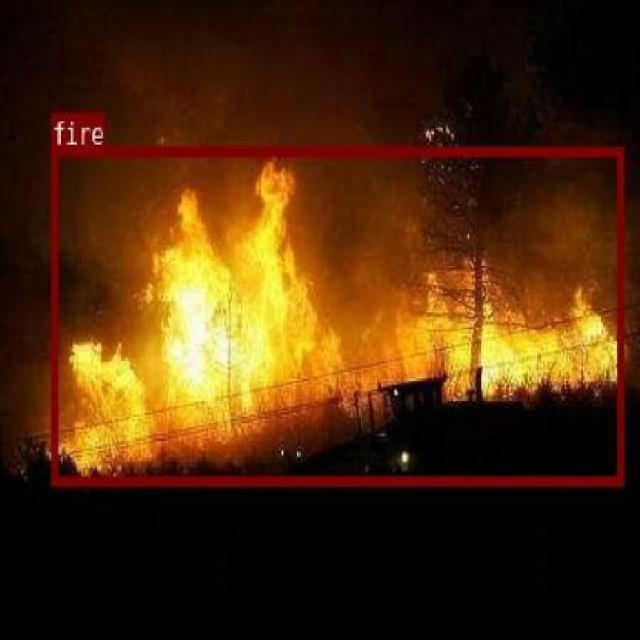fire: (50, 146, 622, 483)
